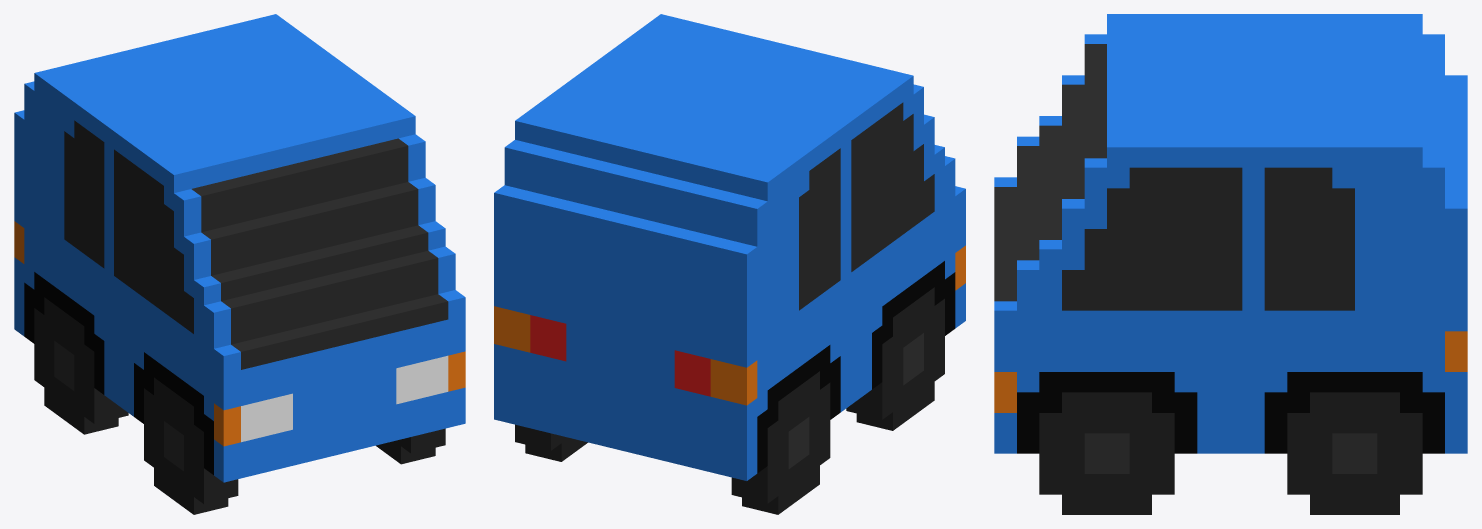
The model's file is kit-voxel-micro-blue.glb.
The picture shows the model from 3 angles, left to right: view 1: azimuth 30°, elevation 25°; view 2: azimuth 150°, elevation 25°; view 3: azimuth 270°, elevation 25°; orthographic projection. The views are drawn at different scales.
Visible parts, largest first — view 1: geometry_1; view 2: geometry_1; view 3: geometry_1.
Part boxes in pixels (x1,y1,x2,y2): geometry_1: (14, 14, 465, 514); geometry_1: (494, 14, 965, 514); geometry_1: (994, 14, 1467, 514).
Bounding box in the file's own units: 1.4 × 1.8 × 2.1.
Materials: 1 (1 with a texture image).
